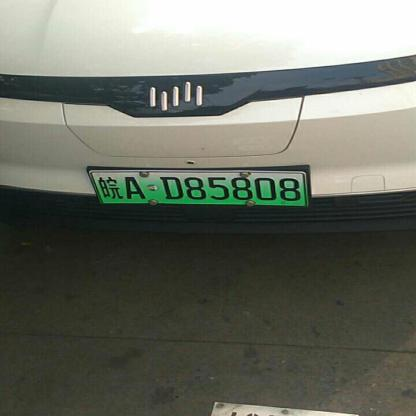lp: (90, 170, 308, 205)
